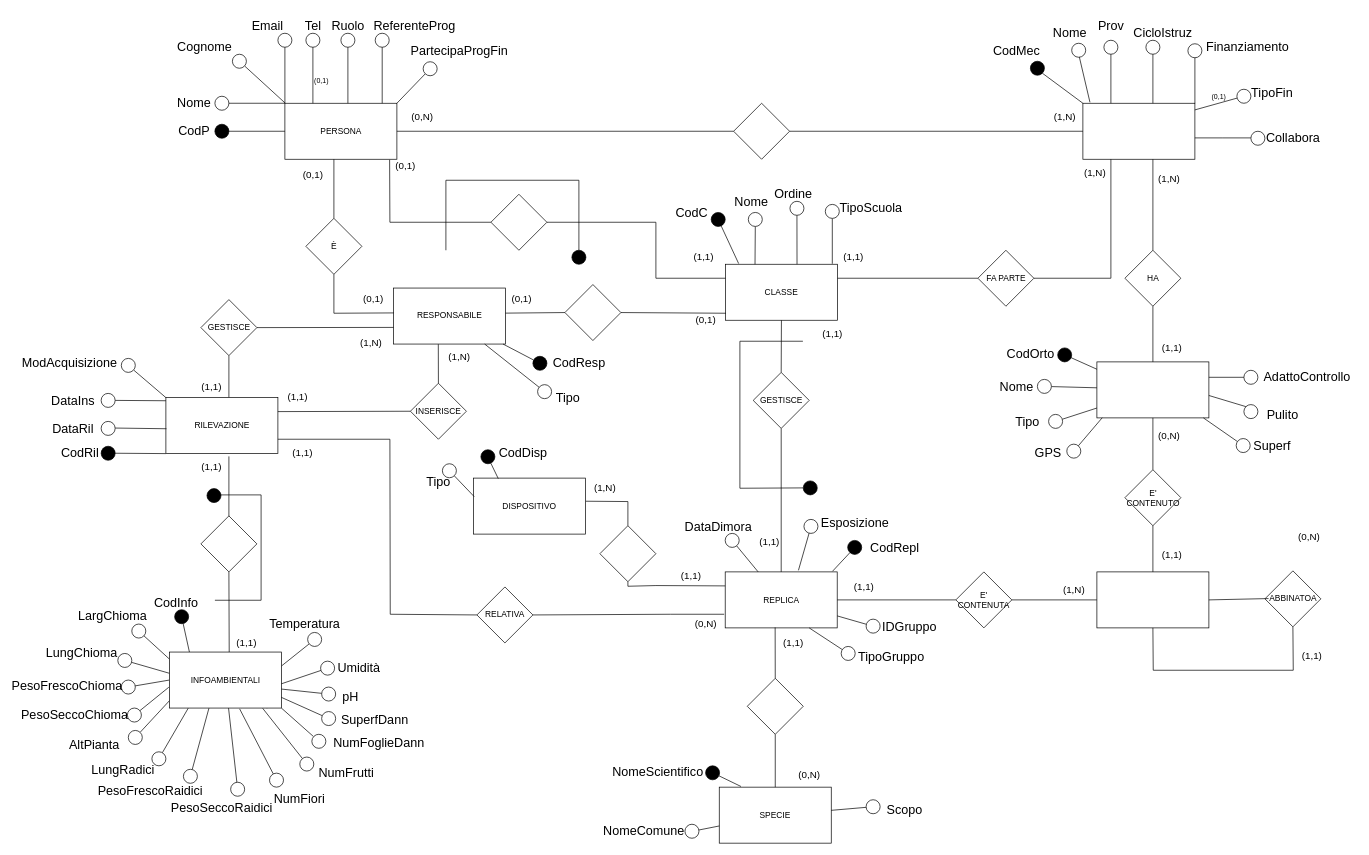
This 1369x855 diagram has some shape labels left out. The box of each missing label's shape, as (x1, y1, x2, y2) in pixels:
APPARTIENE: (747, 678, 803, 734)
ASSOCIATO A: (599, 525, 656, 582)
E' REFERENTE: (733, 103, 790, 159)
E' RIFERIMENTO: (490, 194, 547, 250)
FA DA: (564, 284, 621, 341)
GRUPPO: (1096, 571, 1209, 628)
INERENTE: (200, 515, 257, 572)
ORTO: (1096, 361, 1209, 418)
SCUOLA: (1082, 103, 1195, 159)
